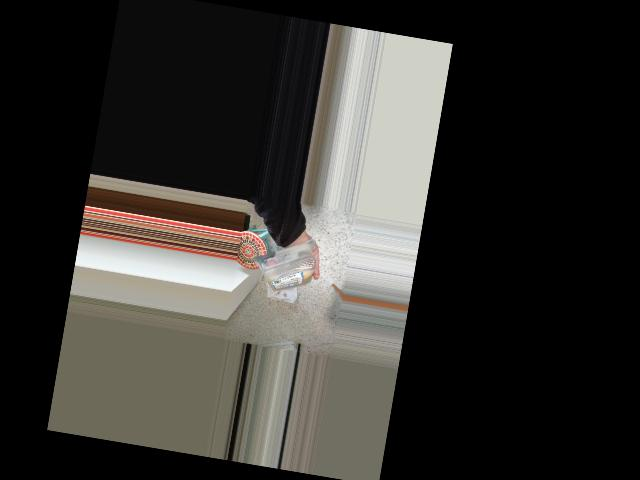cheese: (267, 242, 305, 310)
